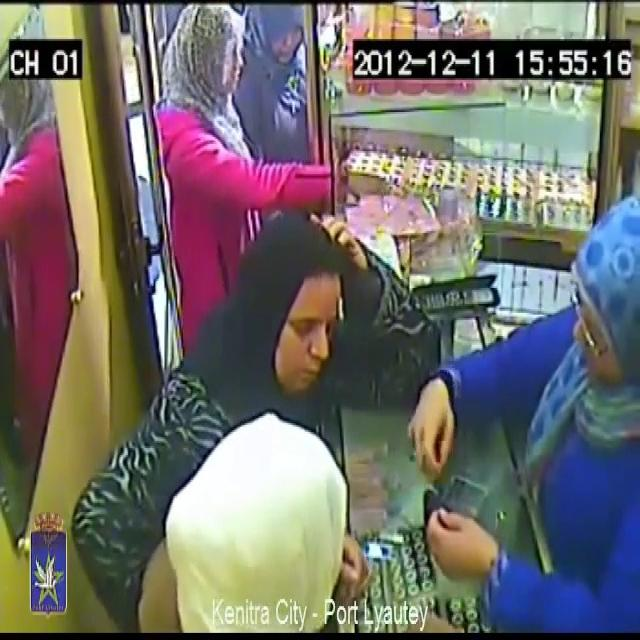Product: (430, 443, 448, 488)
normal: (139, 404, 407, 640), (148, 7, 348, 274), (247, 195, 378, 412), (228, 0, 314, 192)
shoplifting: (411, 199, 640, 640)
